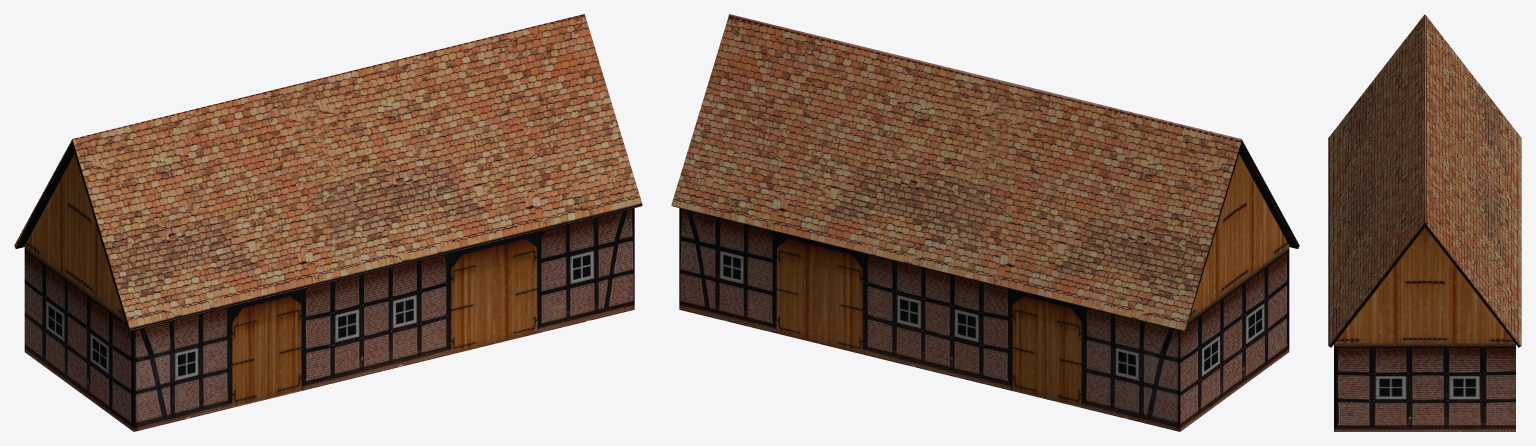
Rendered from half_timbered_barn.obj.
The picture shows the model from 3 angles, left to right: view 1: azimuth 30°, elevation 25°; view 2: azimuth 150°, elevation 25°; view 3: azimuth 270°, elevation 25°; orthographic projection. The views are drawn at different scales.
Visible parts, largest first — view 1: half_timbered_barn; view 2: half_timbered_barn; view 3: half_timbered_barn.
Part boxes in pixels (bbox=[...]): half_timbered_barn: bbox=[14, 14, 642, 431]; half_timbered_barn: bbox=[671, 14, 1299, 431]; half_timbered_barn: bbox=[1328, 14, 1521, 431].
Size of the model in its own units: 24.99 by 11.87 by 9.81.
Materials: 1 (1 with a texture image).
